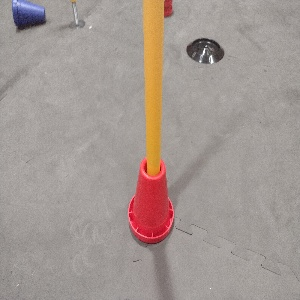Red_1: (125, 152, 176, 244)
